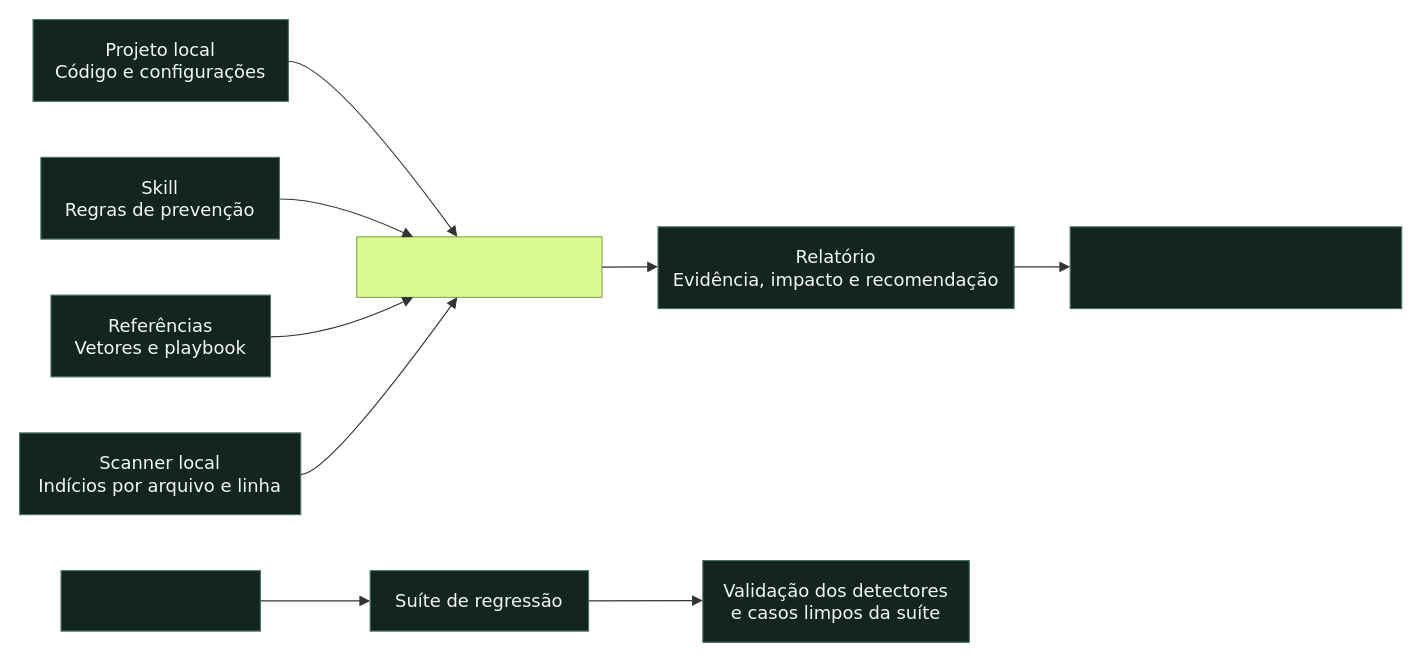
Some shapes in this 1421 by 662 pixel diagram are drawn without their labels. Here are the shapes that lost their labels. From the top down, the box of each, then its label:
(356, 236, 602, 297): Revisão de segurança
(1069, 226, 1402, 309): Responsável pelo projeto Decisão e revisão das mudanças
(60, 570, 260, 631): Fixtures de teste
